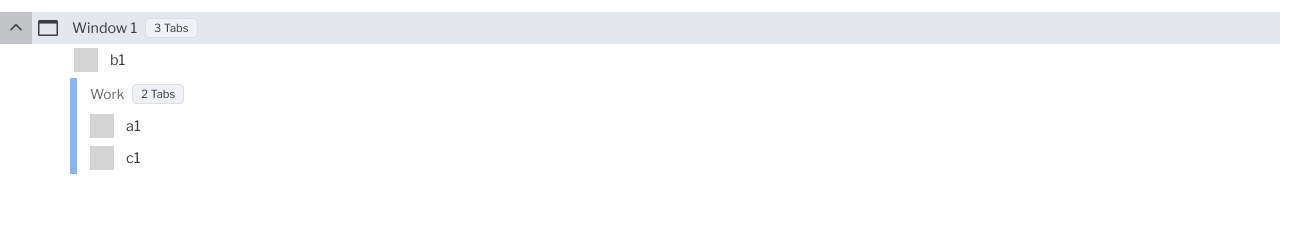
Test: a saved window and its groups › popup: the window right-click leads with Open · Add tab · Rename, named short and described long
The image size is (1292, 235).
Right-click the button with aria-label "Rename window: Window 1" at (104, 28), box [64,12,143,44]
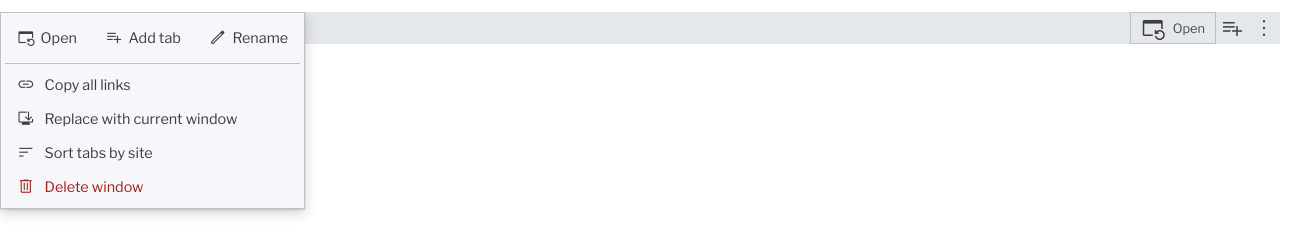
expect the number of menus is 1: met, box [0,12,305,209]
